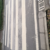zebra: (4, 1, 26, 50)
